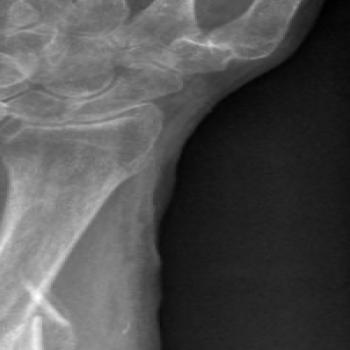Fracture: (10, 304, 61, 330)
